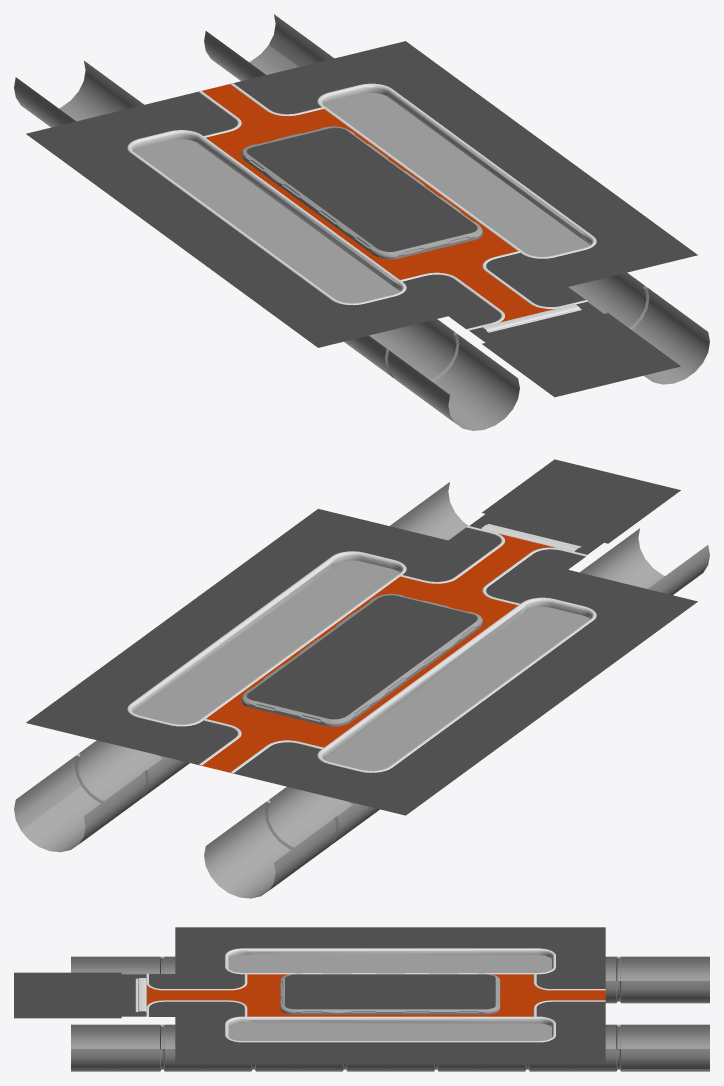
Rendered from floor_lv01_room_03_a.fbx.
3 renders of one model, top to bottom at view 1: azimuth 30°, elevation 25°; view 2: azimuth 150°, elevation 25°; view 3: azimuth 270°, elevation 25°, orthographic. The views are drawn at different scales.
Parts seen in each view (by area): view 1: SmartCombine_35; view 2: SmartCombine_35; view 3: SmartCombine_35.
Part boxes in pixels (<box>): SmartCombine_35: <box>14,14,709,430</box>; SmartCombine_35: <box>14,459,709,898</box>; SmartCombine_35: <box>14,927,709,1071</box>.
Bounding box in the file's own units: 1937 × 284 × 4176.
